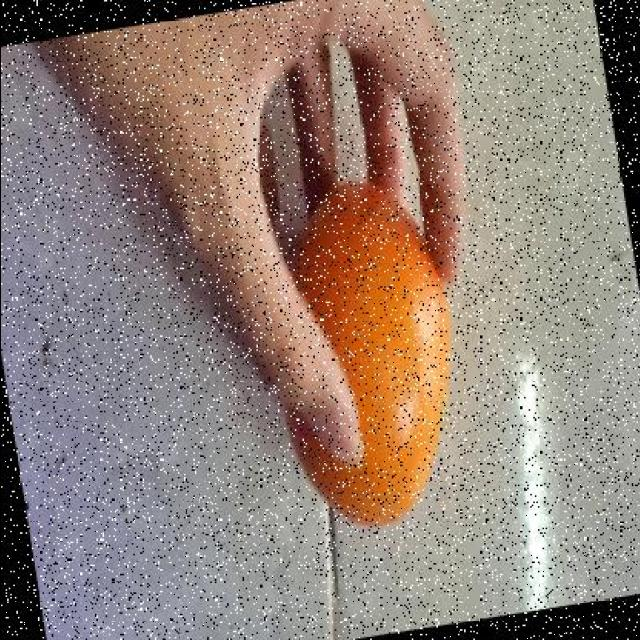Orange: (286, 180, 456, 528)
